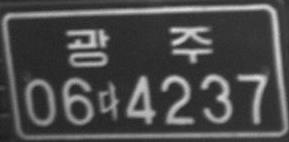0: (22, 77, 58, 129)
2: (159, 72, 197, 128)
3: (198, 71, 233, 125)
4: (124, 73, 158, 127)
6: (59, 74, 96, 127)
7: (235, 71, 270, 126)
광주_D: (64, 24, 215, 69)
다: (97, 78, 120, 123)
